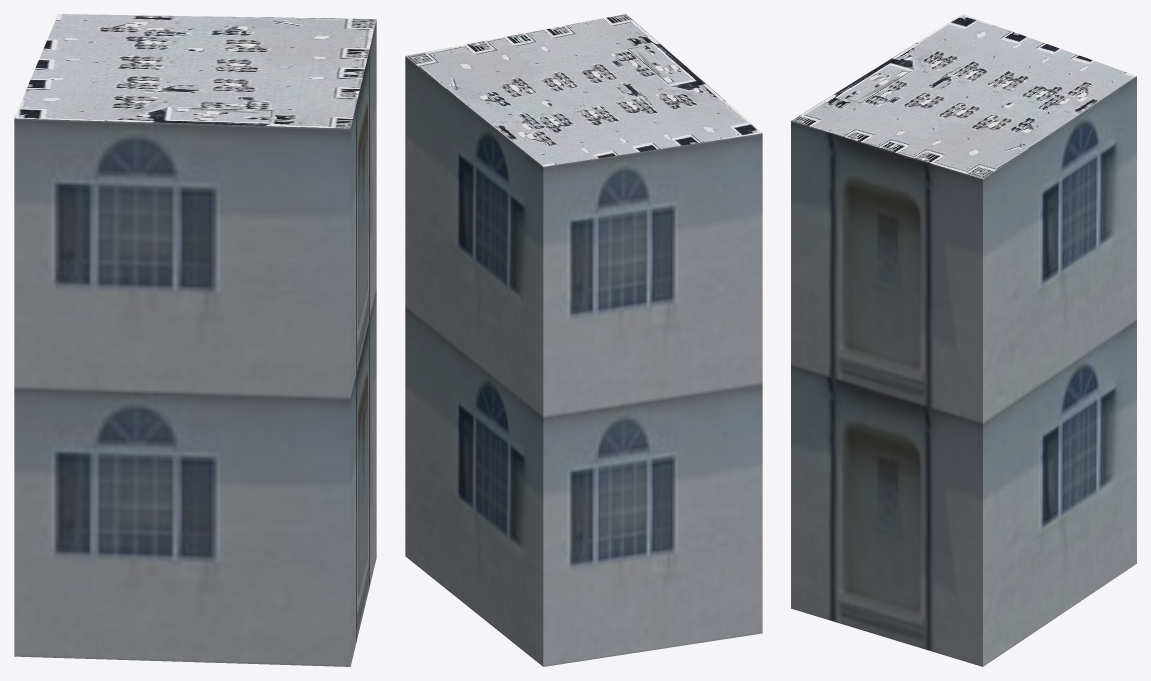
Rendered from ResTex__732.fbx.
3 renders of one model, left to right at view 1: azimuth 30°, elevation 25°; view 2: azimuth 150°, elevation 25°; view 3: azimuth 270°, elevation 25°, orthographic. The views are drawn at different scales.
Parts seen in each view (by area): view 1: CityEngineMaterial_17_m, CityEngineMaterial_m; view 2: CityEngineMaterial_17_m, CityEngineMaterial_m; view 3: CityEngineMaterial_17_m, CityEngineMaterial_m.
Boxes of the visible parts, left/top/right/bottom form: CityEngineMaterial_17_m: left=14, top=20, right=376, bottom=666; CityEngineMaterial_m: left=14, top=14, right=376, bottom=128; CityEngineMaterial_17_m: left=405, top=56, right=762, bottom=666; CityEngineMaterial_m: left=405, top=14, right=762, bottom=166; CityEngineMaterial_17_m: left=791, top=76, right=1136, bottom=666; CityEngineMaterial_m: left=791, top=14, right=1136, bottom=178.
Size of the model in its own units: 4.36 by 6 by 3.85.
2 materials, 2 textured.
